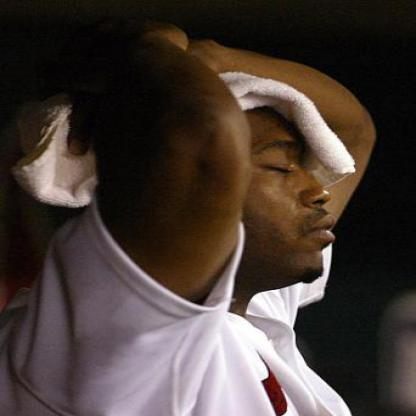face: (179, 73, 344, 294)
